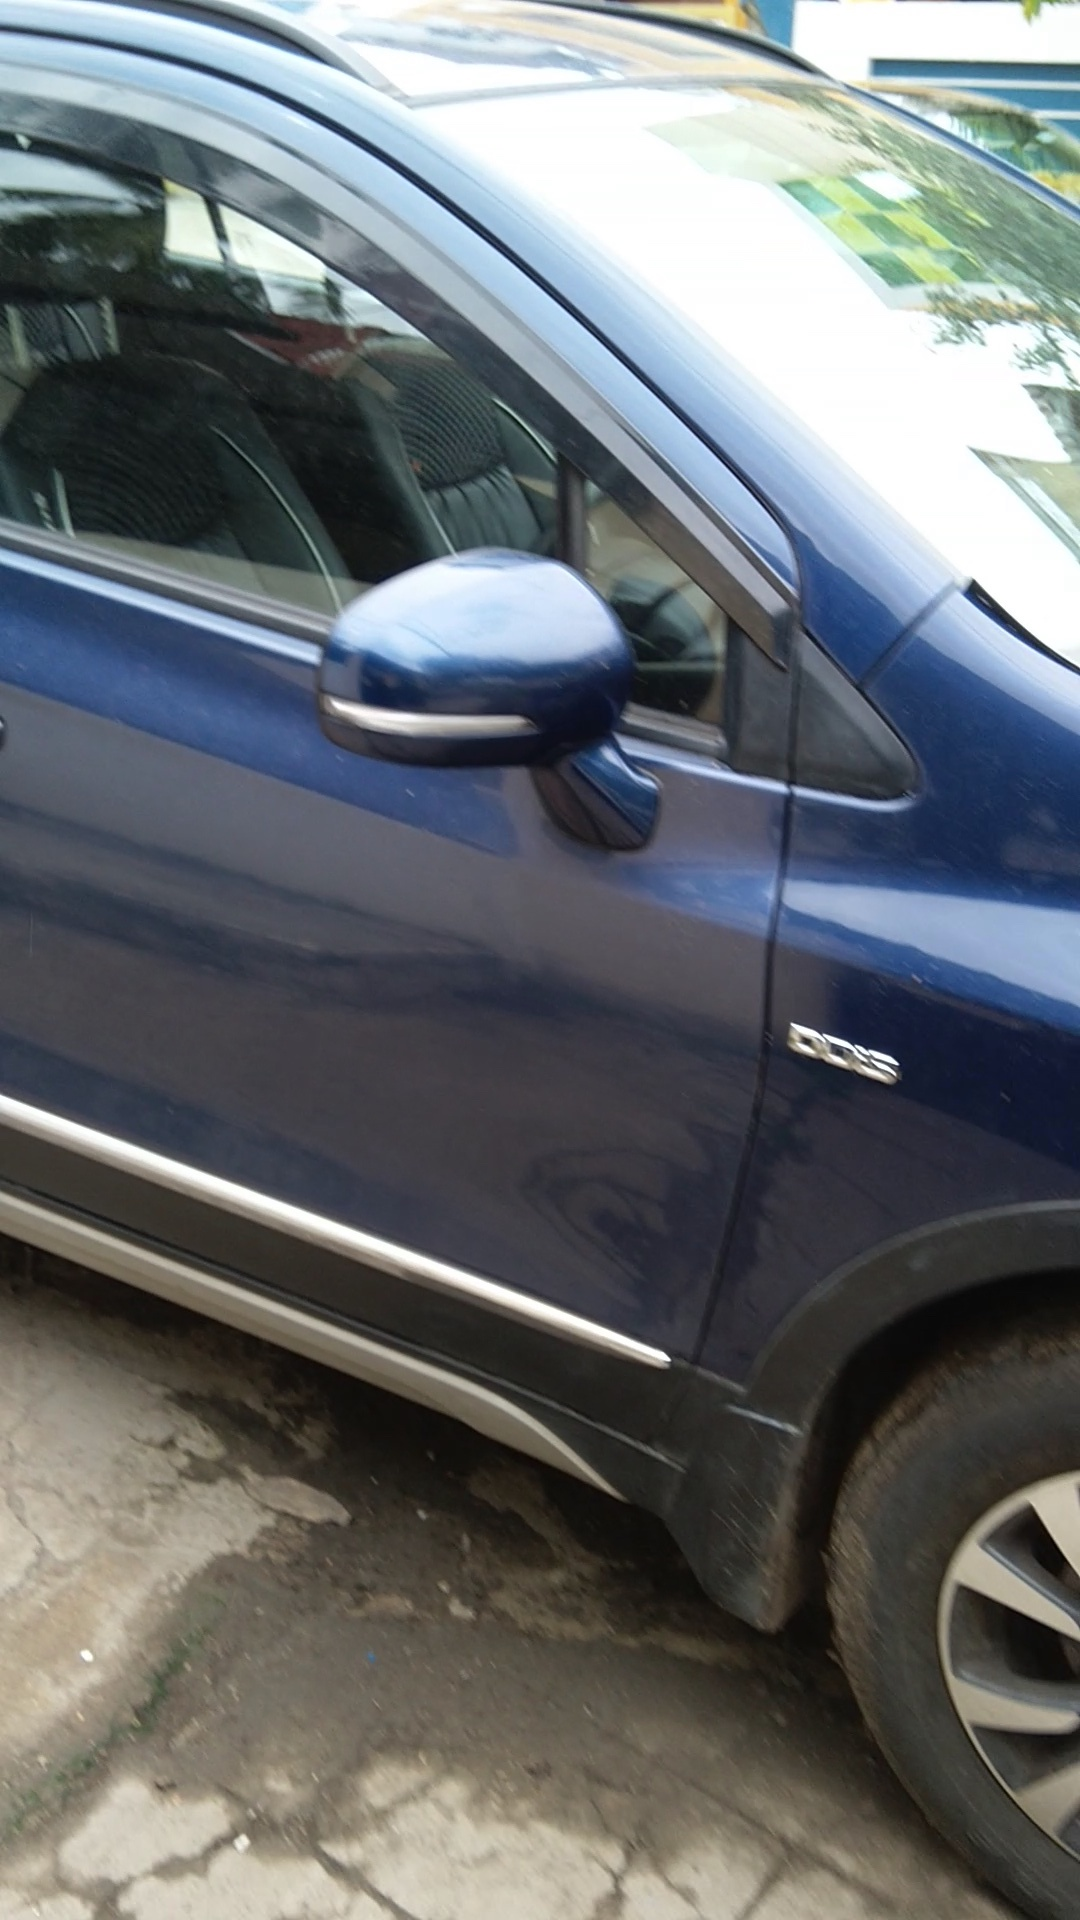ovr_mirror: (289, 527, 694, 877)
